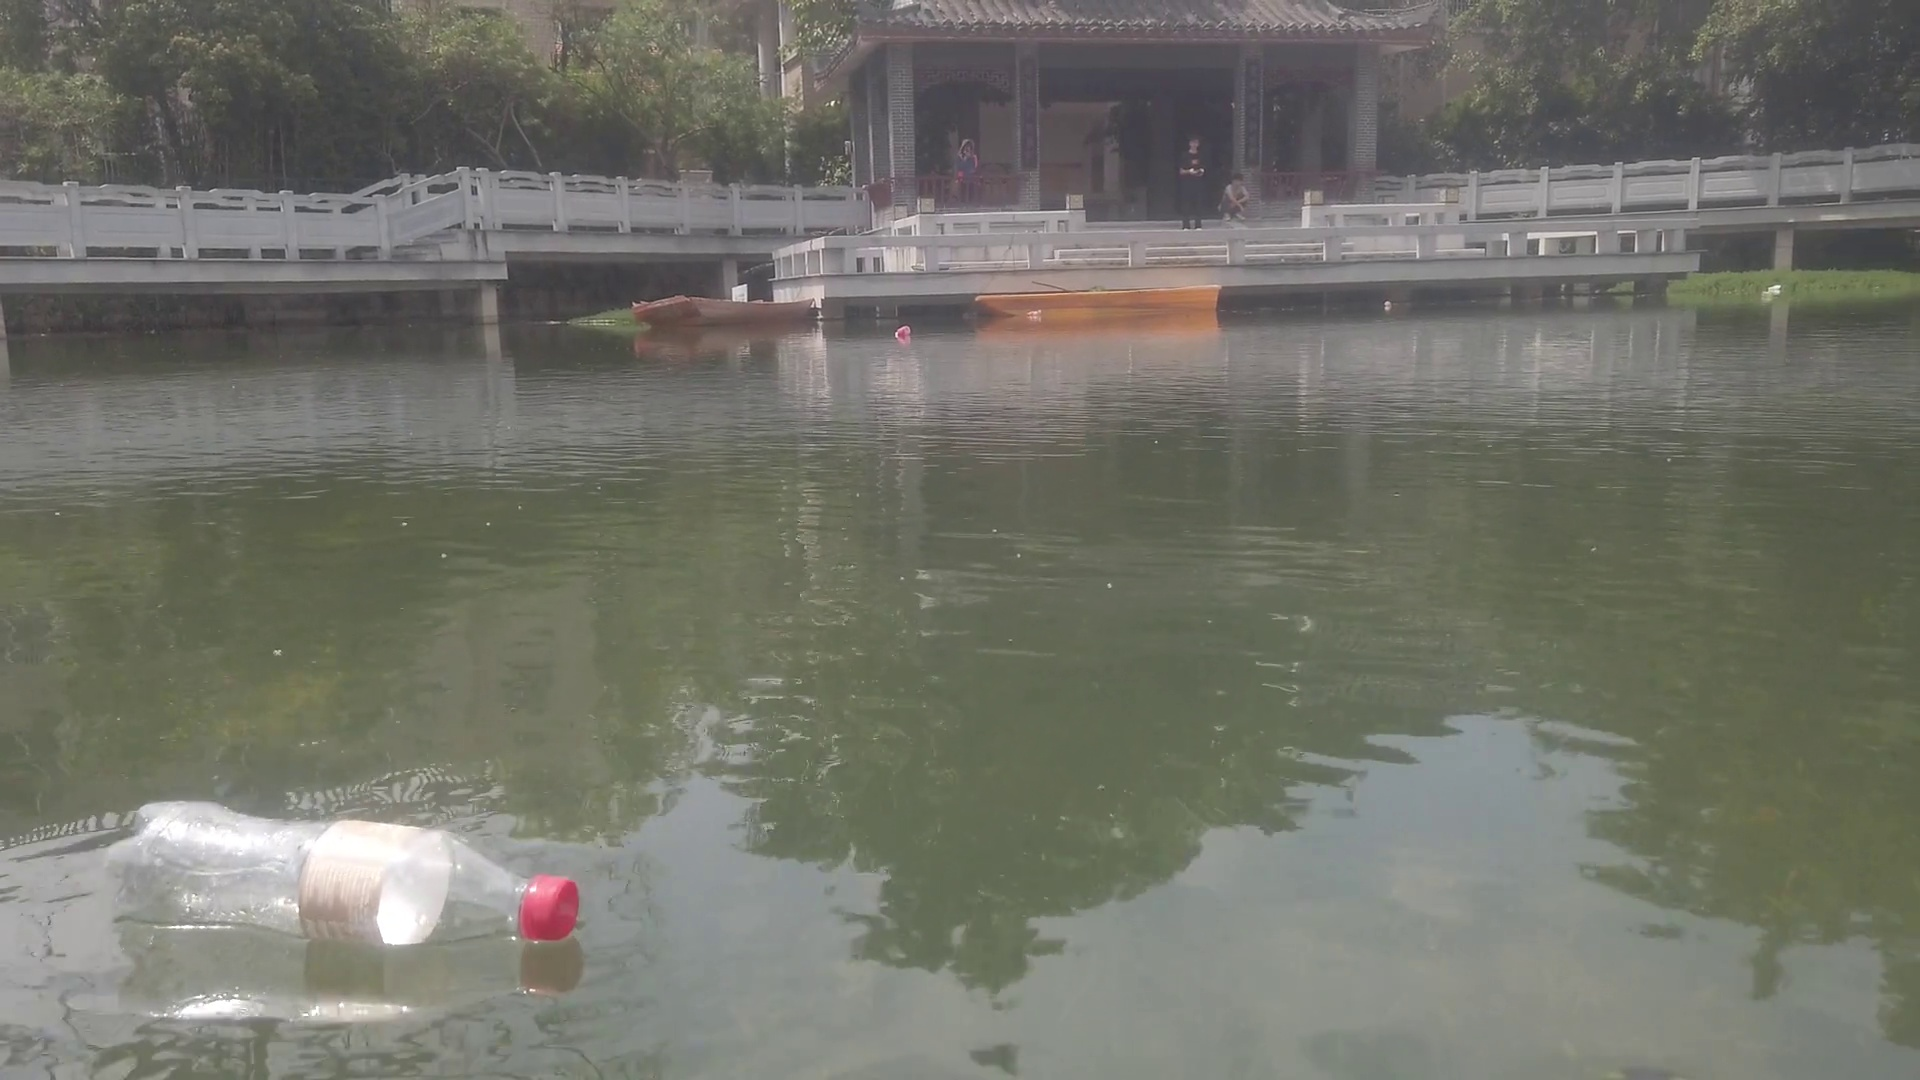bottle: (100, 796, 579, 948), (891, 320, 913, 338), (1026, 309, 1046, 320), (1383, 295, 1395, 315)
plastic: (1764, 284, 1783, 294)
